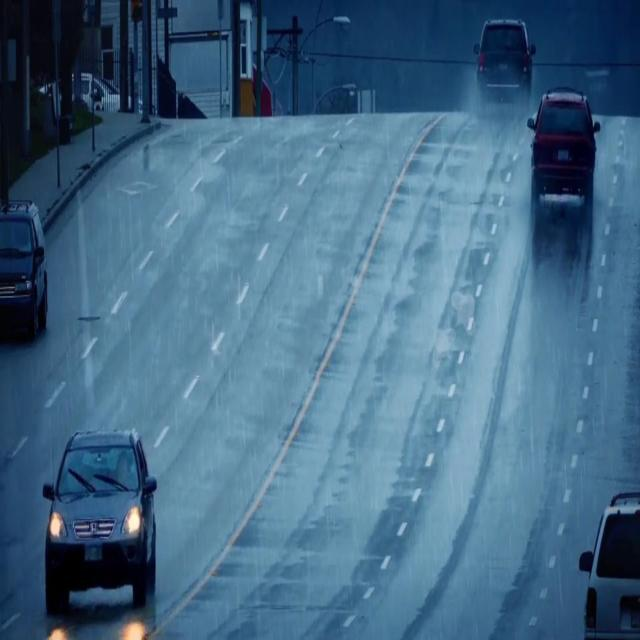car: (45, 432, 155, 614), (530, 90, 599, 218), (0, 200, 50, 345), (578, 487, 626, 600), (475, 18, 533, 92)
